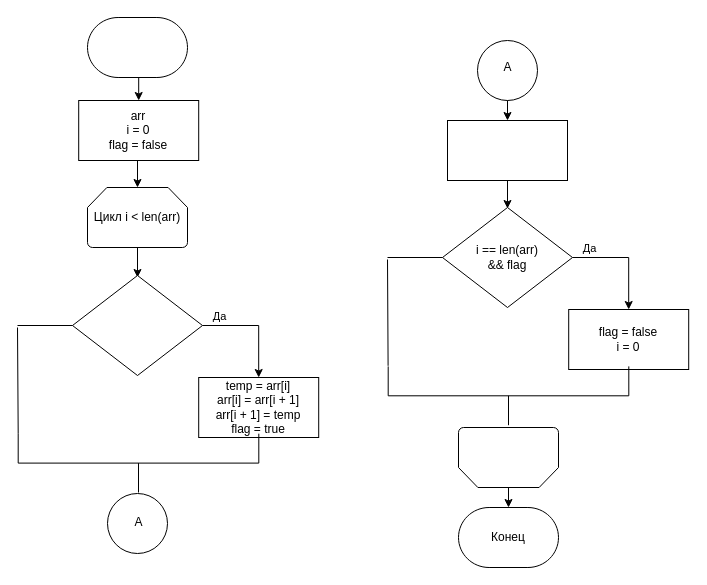
Image size: 707x585. Some labels were removed from this diagram. Each missing label, with the box of its shape:
i + 1 != len(arr) && arr[i] > arr[i + 1]: (72, 274, 202, 376)
i++: (446, 120, 568, 180)
Конец цикла: (458, 426, 558, 488)
Начало: (86, 16, 188, 78)
